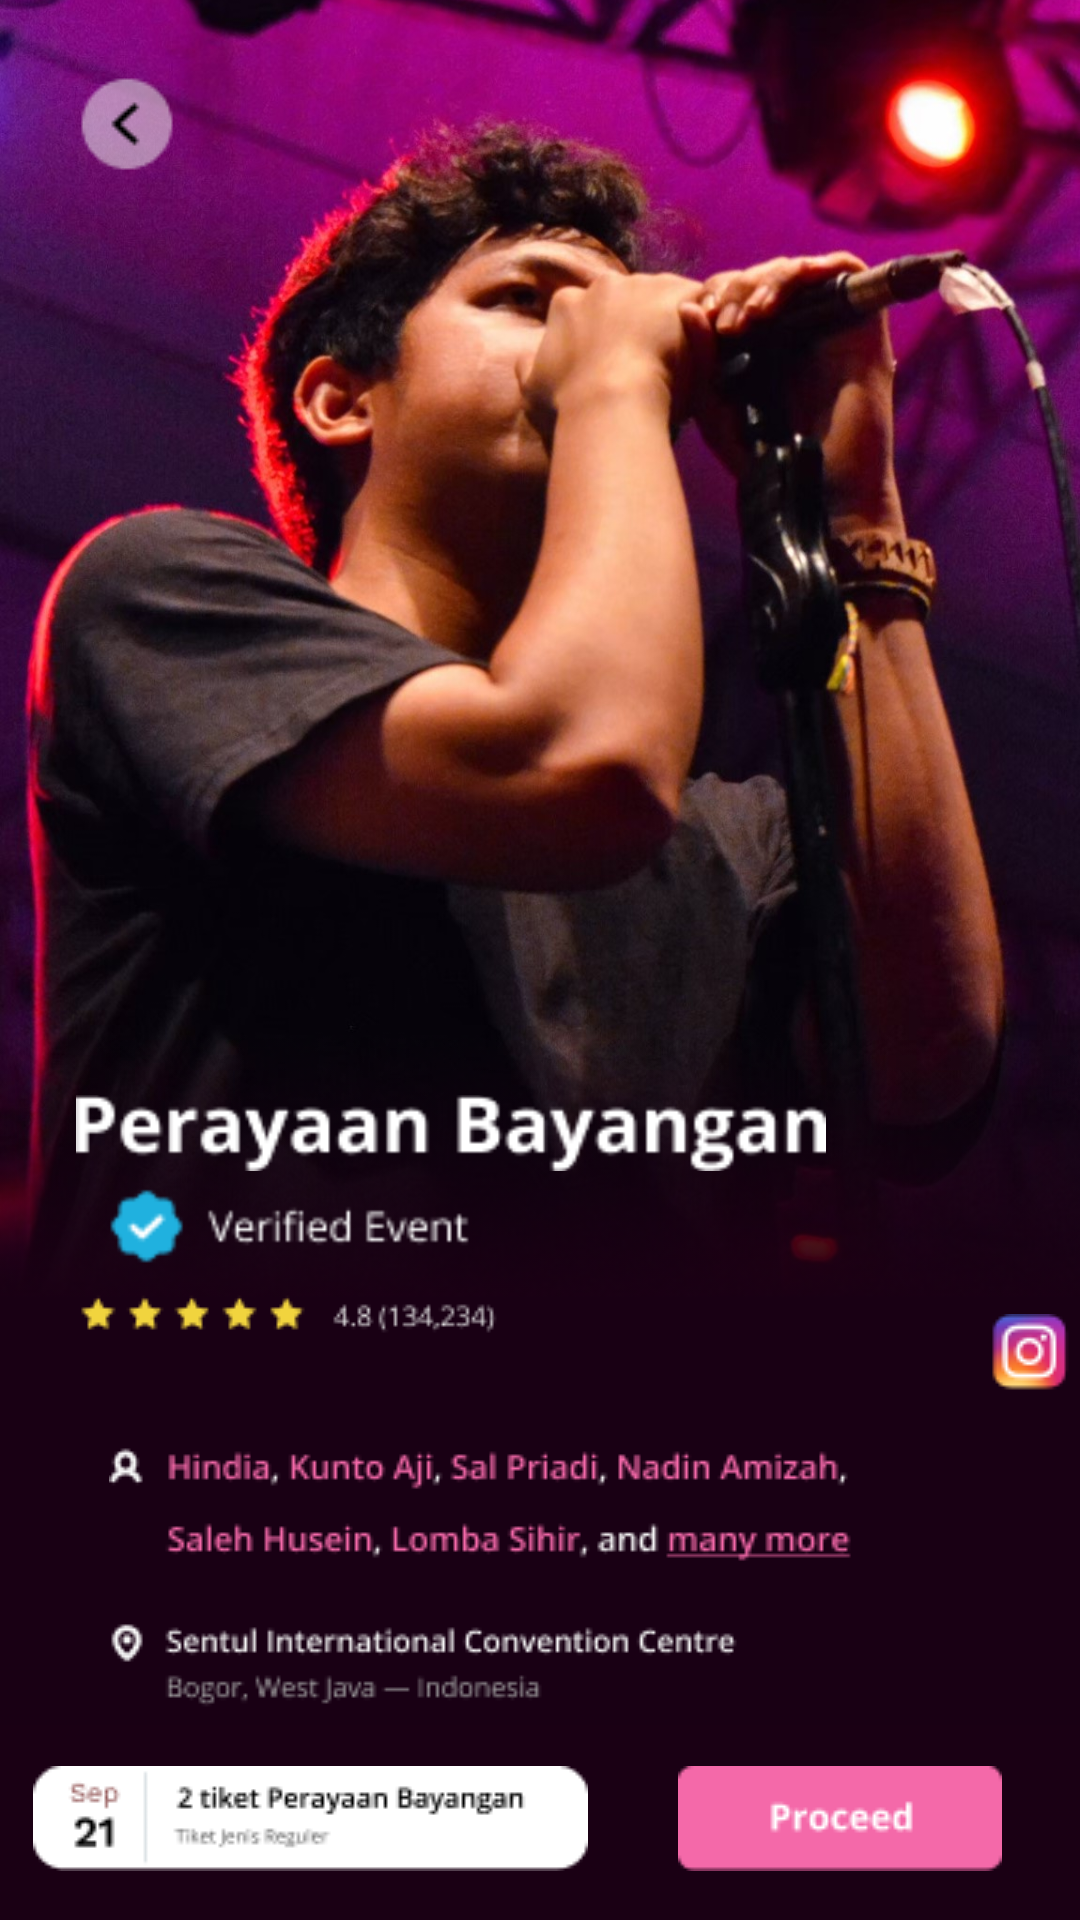

Icon click points for this 1080*1920 phone screenshot, format (x,y):
back: (127,117)
